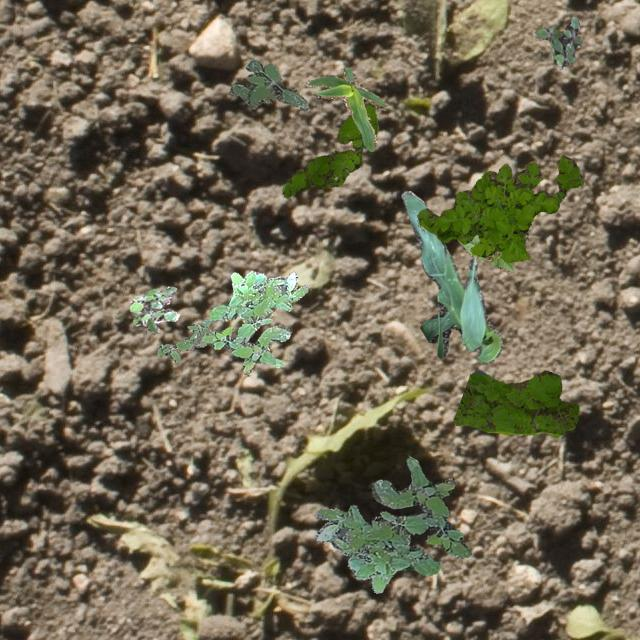crop: (401, 190, 502, 363), (304, 66, 386, 150), (460, 234, 512, 272)
weed: (316, 456, 470, 592), (417, 154, 582, 262), (200, 270, 306, 374), (282, 102, 378, 196), (452, 368, 578, 436), (228, 58, 308, 110), (156, 318, 212, 362), (534, 16, 580, 68), (128, 286, 178, 332)
